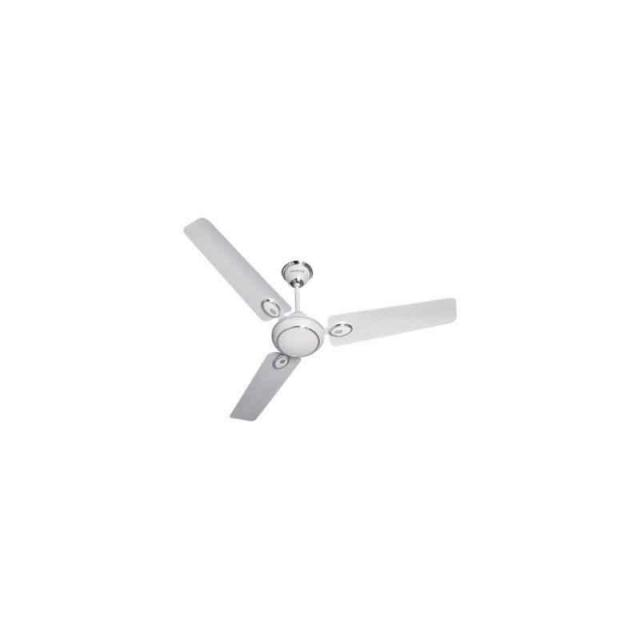fan: (181, 216, 457, 421)
